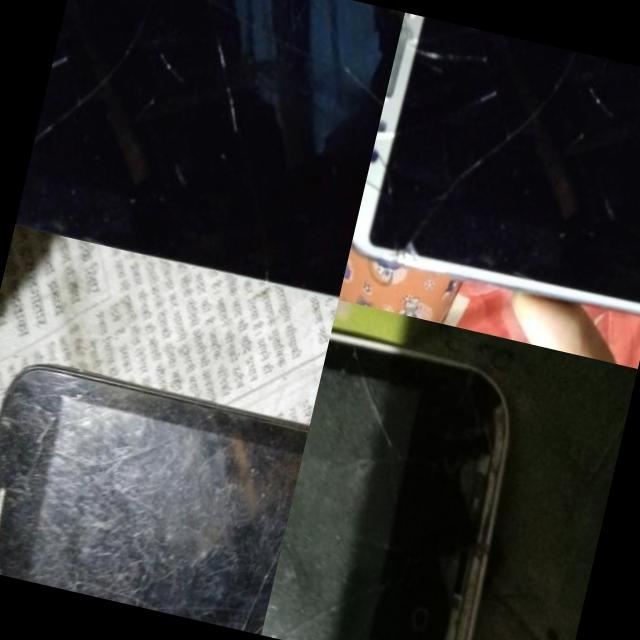scratch: (168, 0, 283, 148), (597, 61, 640, 183)
screen crack: (260, 311, 532, 640), (108, 378, 311, 634), (358, 11, 482, 229), (0, 351, 92, 523)
